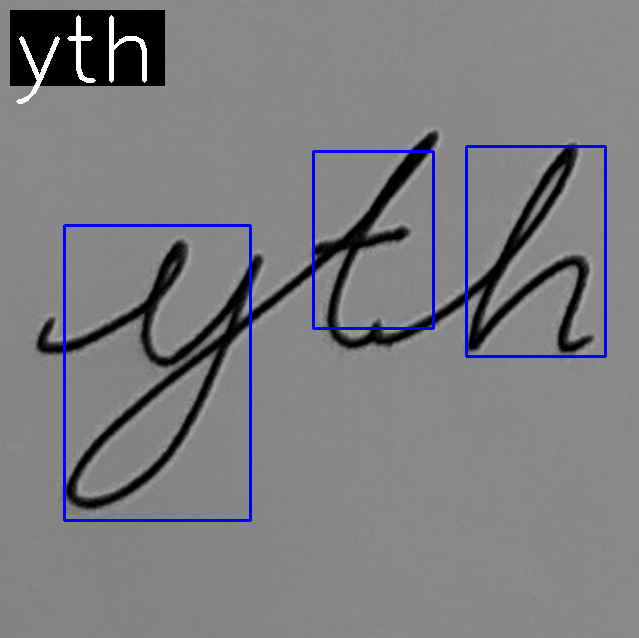h: (464, 140, 595, 355)
t: (309, 128, 443, 352)
y: (61, 238, 267, 514)
